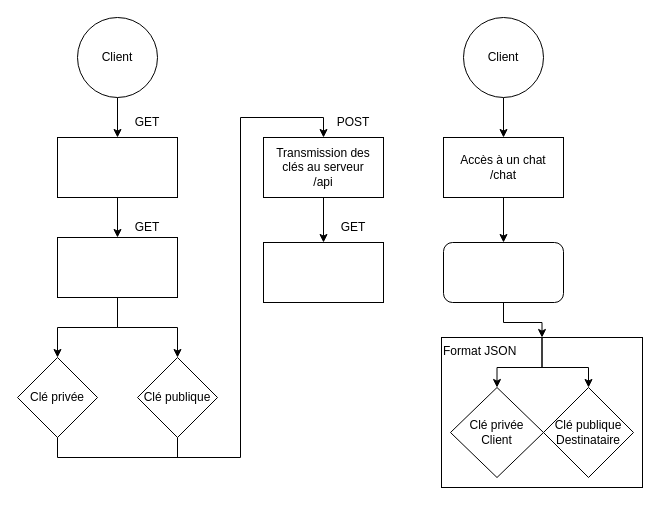
Image size: 660x505. Some labels were removed from this diagram. Here are the shapes that lost their labels. From the top down, the centre of each, then its label:
At point 117,167: "Création de compte /register".
At point 117,267: "Génération des clés /gen".
At point 323,272: "Redirection vers /home".
At point 503,272: "Requête vers le serveur /api".
